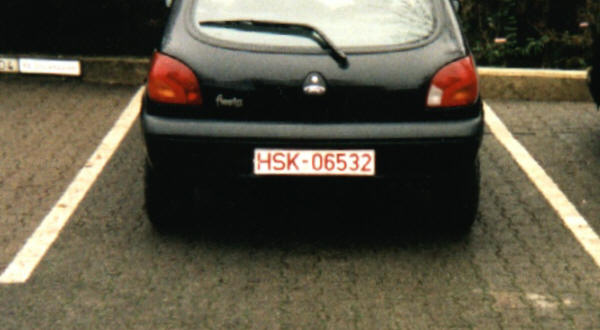license_plate: (252, 146, 375, 176)
